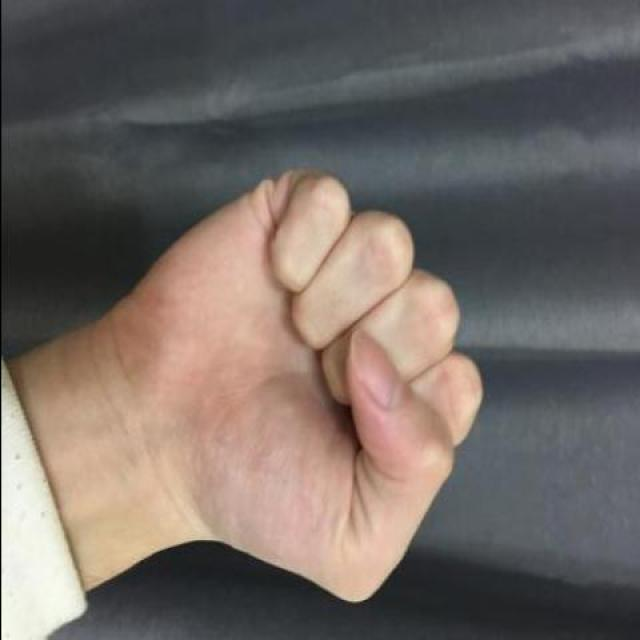Closed Hand: (146, 108, 485, 608)
